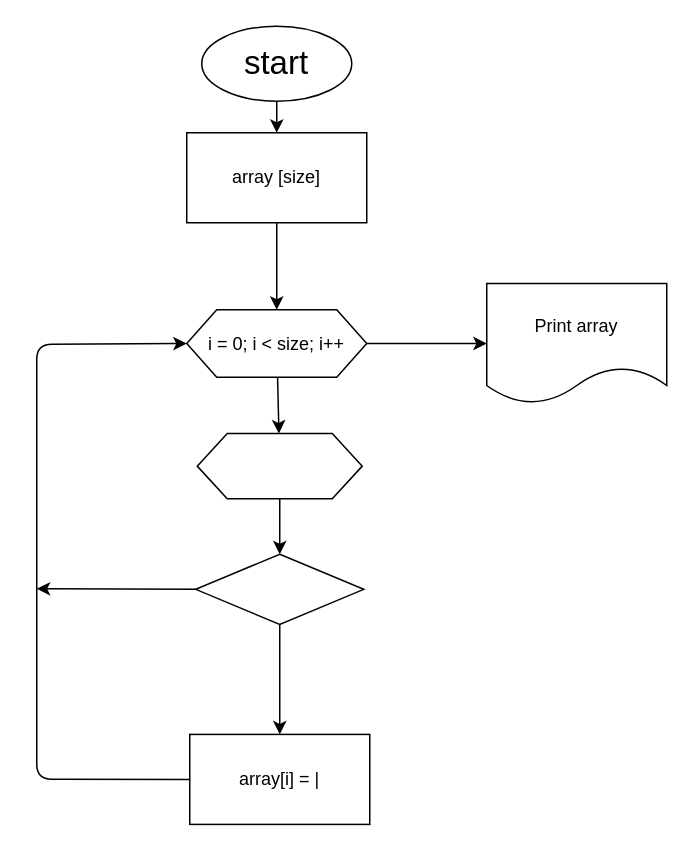
Image size: 693x852. Some labels were removed from this diagram. Here are the shapes that lost their labels. From the top down, the centre of each, then its label:
At point (279, 465): "j = 0; j < 10; j++".
At point (279, 588): "array[i] == j".
